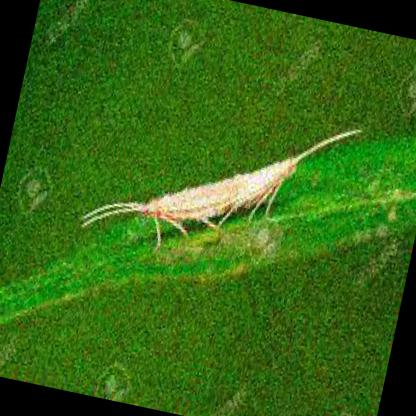plutella: (80, 132, 358, 248)
